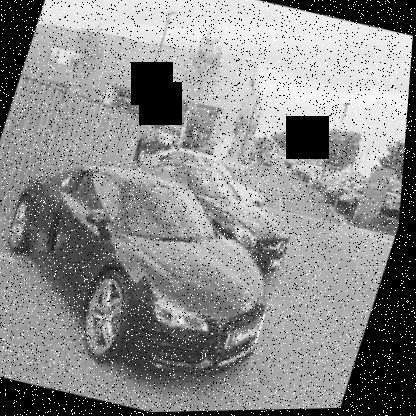not_emergency: (0, 139, 318, 415), (120, 149, 316, 281), (131, 133, 282, 223)
